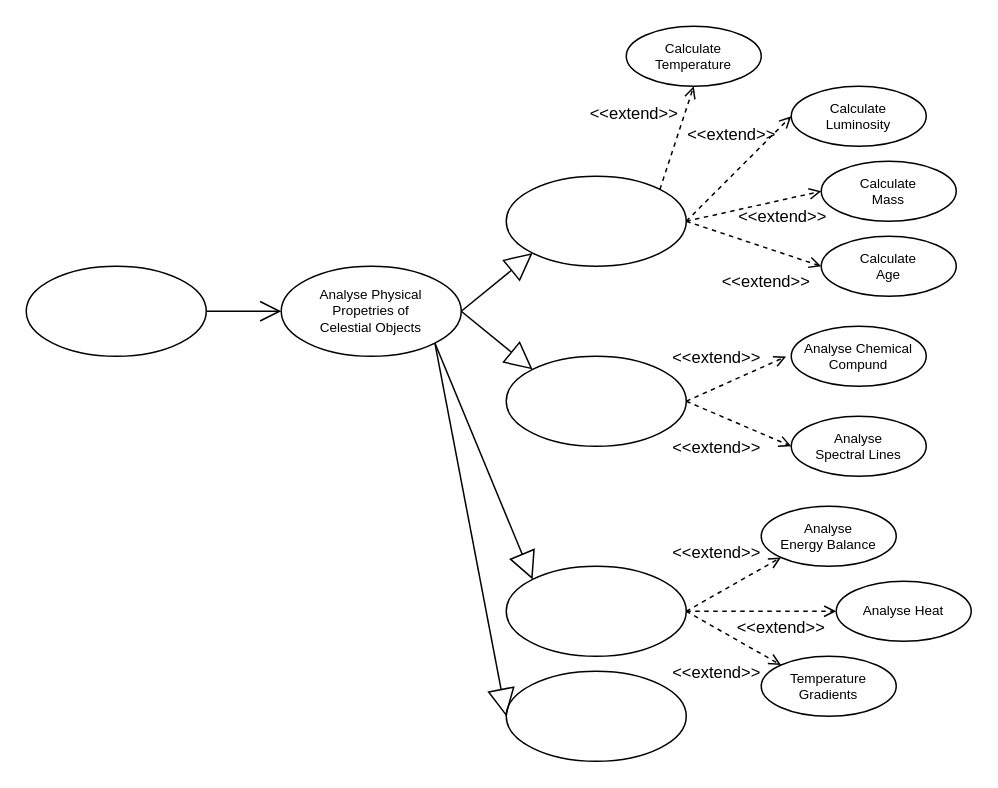
This 998x788 diagram has some shape labels left out. The centre of each missing label's shape, as x and y in pixels:
Analyse Nuclear, Electromagnetic and Quantom Propetries: (x=595, y=715)
Analyse Thermodynamics: (x=595, y=610)
Calculate Physical Information of Celestial Objects: (x=595, y=220)
Include Module : Astrophysics: (x=115, y=310)
Spectroscopy and Atomic Physics: (x=595, y=400)
